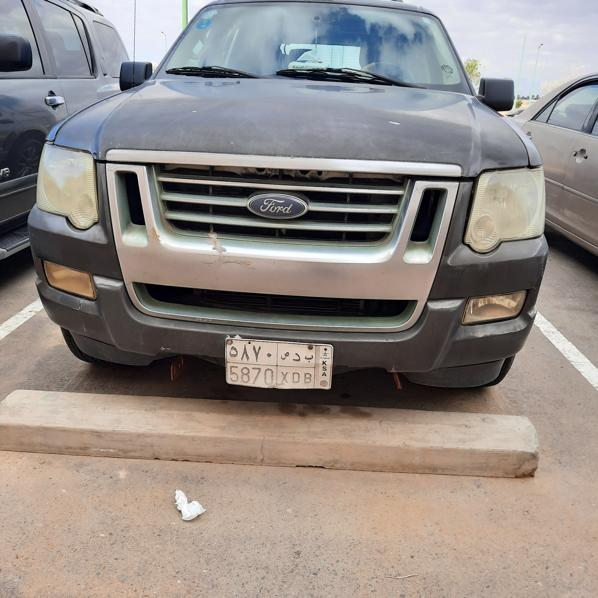numberplate: (226, 338, 332, 389)
